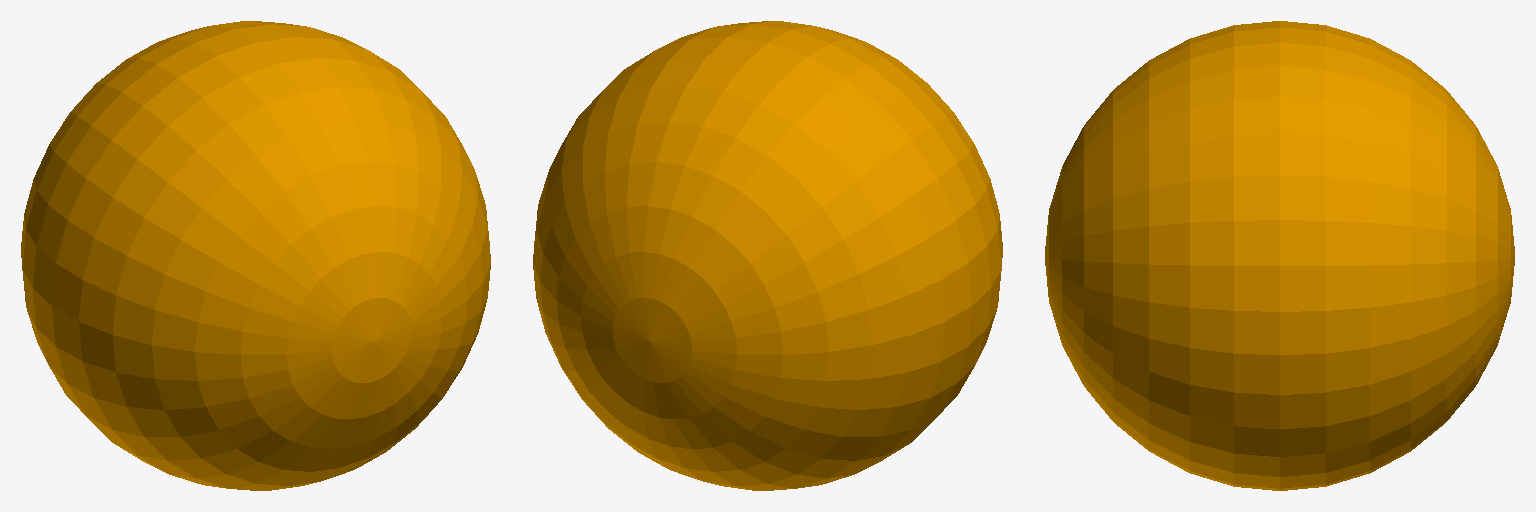
URDF robot description (spl-22-ball.urdf):
<?xml version="1.0" ?>
<robot name="spl-22-ball.urdf">
  <link name="baseLink">
    <visual>
      <origin rpy="0 0 0" xyz="0 0 0"/>
      <geometry>
        <mesh filename="spl-ball-9.obj" scale="0.06 0.06 0.06"/>
      </geometry>
      <material name="spl-ball-9">
        <texture filename="spl-ball-9.mtl"/>
      </material>
    </visual>
    <collision>
      <origin rpy="0 0 0" xyz="0 0 0"/>
      <geometry>
	 	<mesh filename="spl-ball-9.obj" scale="0.06 0.06 0.06"/>
      </geometry>
    </collision>
  </link>
</robot>

--- Render facts (derived) ---
The picture shows the robot from 3 angles, left to right: view 1: azimuth 30°, elevation 25°; view 2: azimuth 150°, elevation 25°; view 3: azimuth 270°, elevation 25°; orthographic projection.
Model spl-22-ball.urdf with 1 links and 0 joints (none), rooted at baseLink, posed all joints at 0.
Links seen in each view (by area): view 1: baseLink; view 2: baseLink; view 3: baseLink.
Link boxes in pixels (x1,y1,x2,y2): baseLink: (21, 21, 490, 490); baseLink: (533, 21, 1002, 490); baseLink: (1045, 21, 1514, 490).
Bounding box of the posed robot: 0.12 × 0.12 × 0.12 m (x, y, z).
1 mesh visuals loaded from 1 distinct referenced files (1 OBJ).